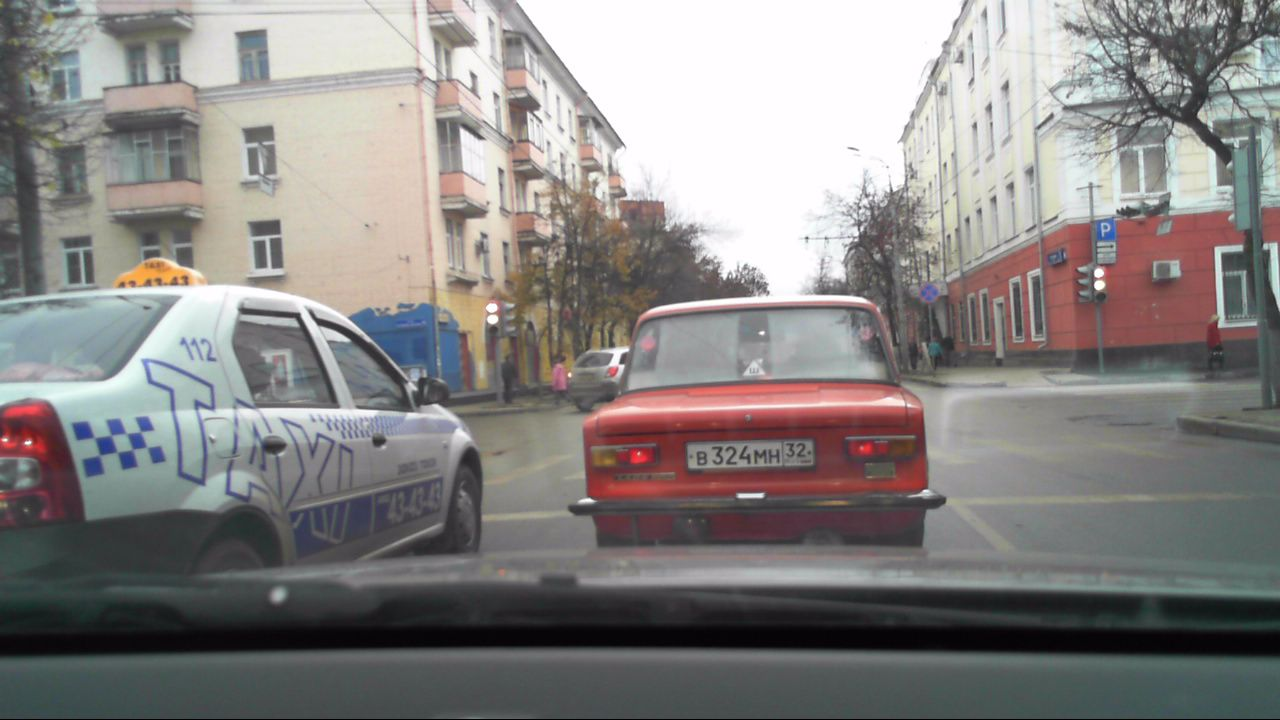No Parking: (918, 280, 942, 303)
